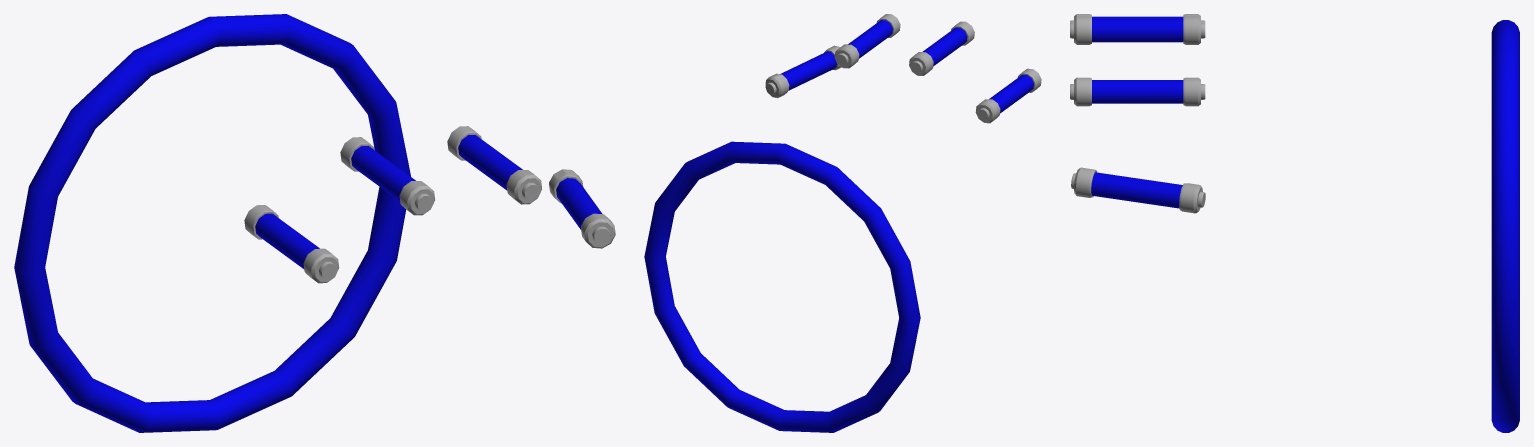
File: SM_Generator_LightsBroken.fbx
3 renders of one model, left to right at view 1: azimuth 30°, elevation 25°; view 2: azimuth 150°, elevation 25°; view 3: azimuth 270°, elevation 25°, orthographic. The views are drawn at different scales.
Parts seen in each view (by area): view 1: LightBroken; view 2: LightBroken; view 3: LightBroken.
Part boxes in pixels (x1=…): LightBroken: x1=14, y1=14, x2=615, y2=432; LightBroken: x1=644, y1=14, x2=1041, y2=432; LightBroken: x1=1070, y1=14, x2=1519, y2=432.
Size of the model in its own units: 318 by 346 by 326.
